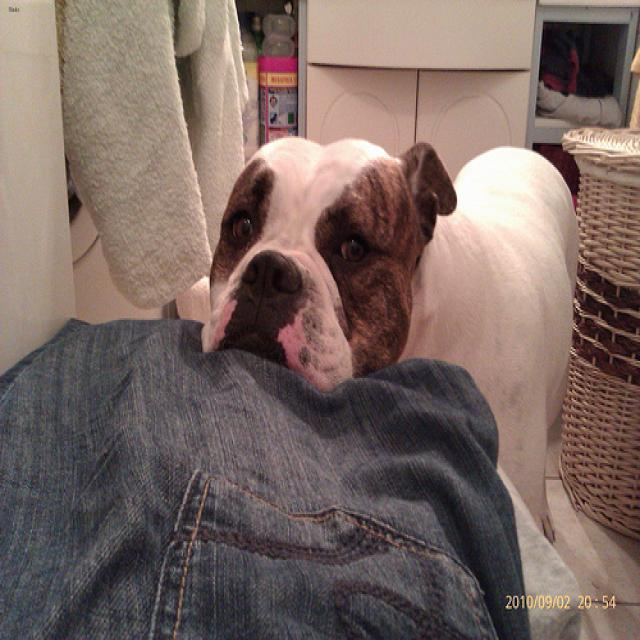dog-american_bulldog: (160, 128, 588, 555)
